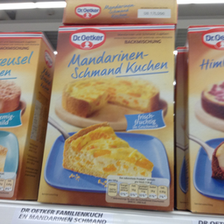cake: (38, 23, 173, 213), (175, 24, 222, 218)
